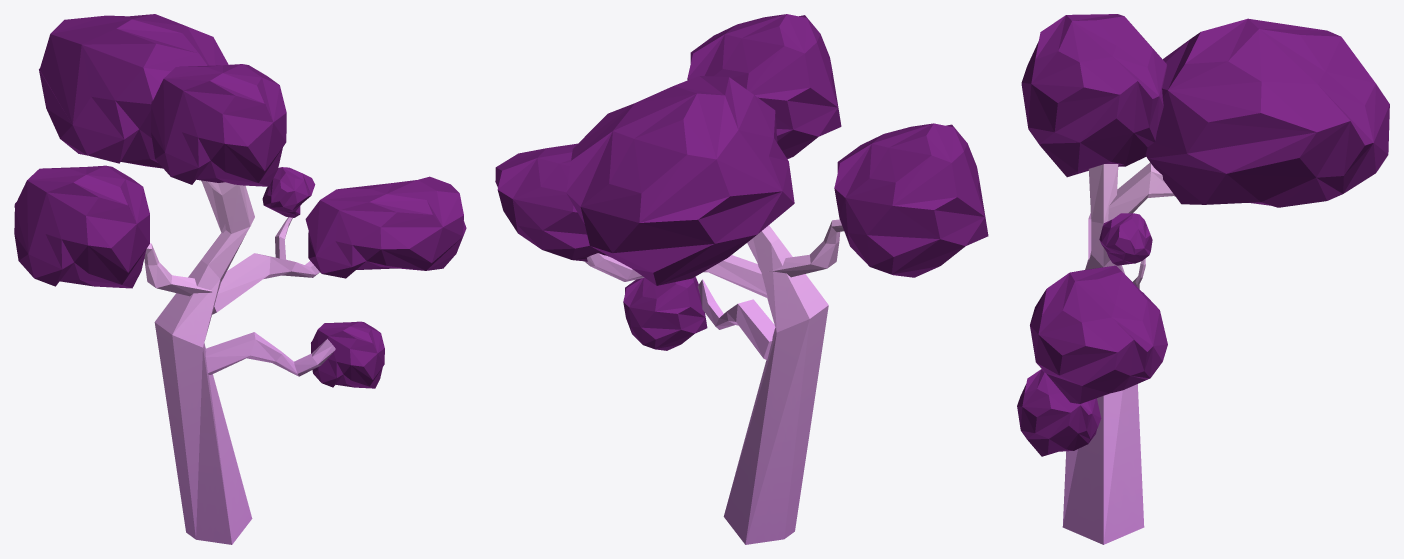
Rendered from Tree_4.FBX.
The picture shows the model from 3 angles, left to right: view 1: azimuth 30°, elevation 25°; view 2: azimuth 150°, elevation 25°; view 3: azimuth 270°, elevation 25°; orthographic projection. The views are drawn at different scales.
Visible parts, largest first — view 1: Cylinder026; view 2: Cylinder026; view 3: Cylinder026.
Part boxes in pixels (x1,y1,x2,y2): Cylinder026: [14, 14, 466, 544]; Cylinder026: [495, 14, 988, 544]; Cylinder026: [1017, 14, 1389, 544].
Bounding box in the file's own units: 4522 × 4613 × 3095.
1 material, 1 textured.
